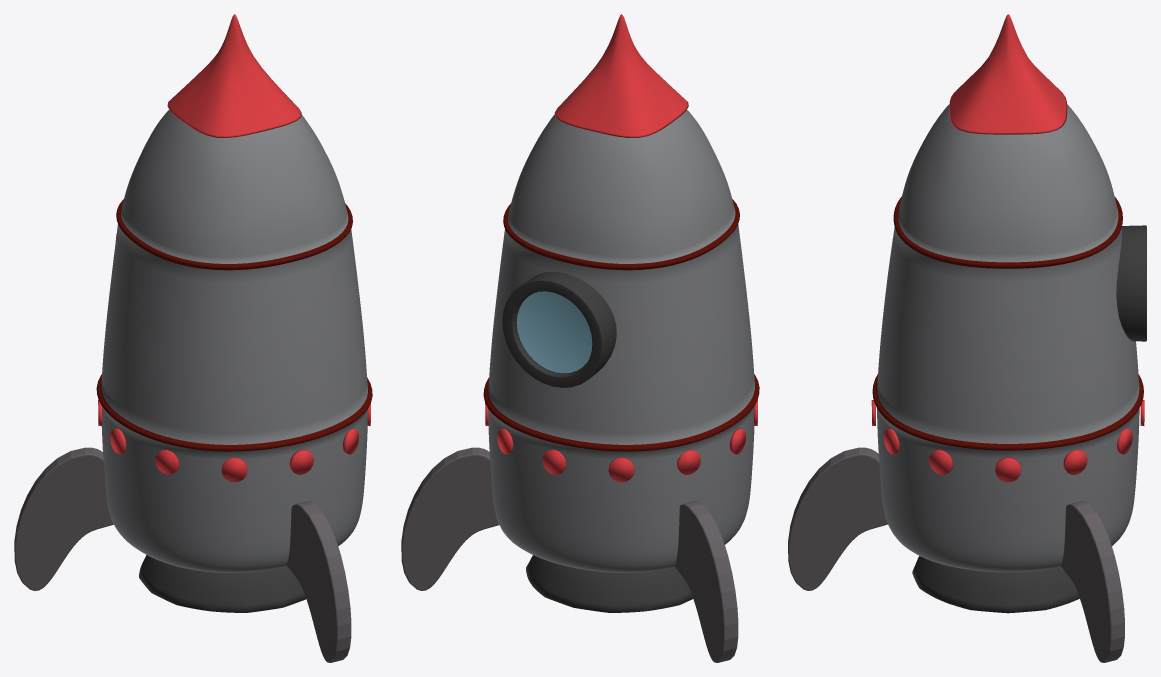
The model's file is Rocket.fbx.
3 renders of one model, left to right at view 1: azimuth 30°, elevation 25°; view 2: azimuth 150°, elevation 25°; view 3: azimuth 270°, elevation 25°, orthographic.
Parts seen in each view (by area): view 1: Rocket; view 2: Rocket; view 3: Rocket.
Part boxes in pixels (x1,y1,x2,y2): Rocket: [14, 14, 372, 662]; Rocket: [401, 14, 759, 662]; Rocket: [788, 14, 1146, 662].
Size of the model in its own units: 252 by 411 by 233.
